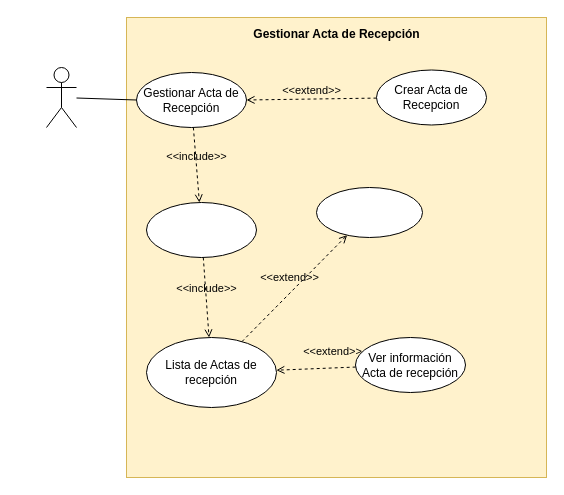
Image size: 564x495. Some labels were removed from this diagram. The centre of each missing label's shape, as x and y in pixels:
Buscar Acta de Recepcion: point (201, 230)
Editar acta de recepción: point (369, 212)
F. Recepcionista: point (61, 97)
